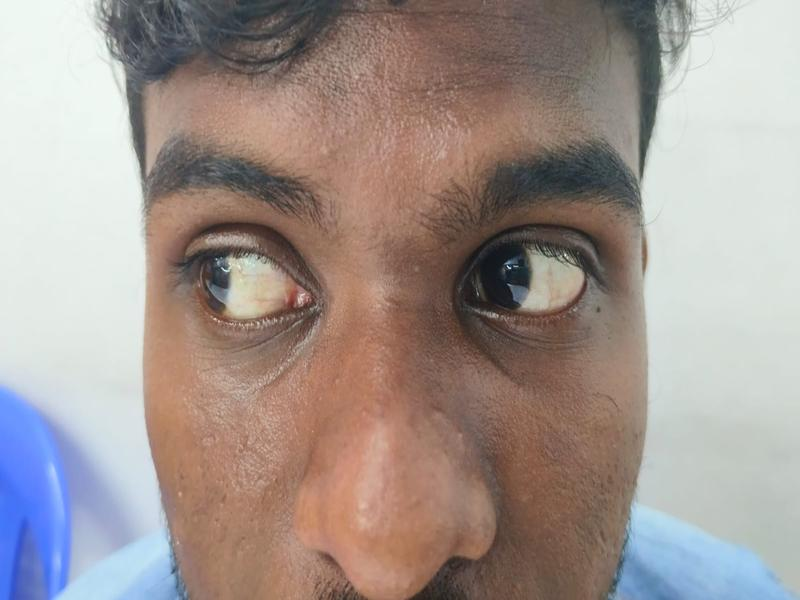EYE RIGHT: (481, 243, 592, 319), (189, 250, 306, 322)
